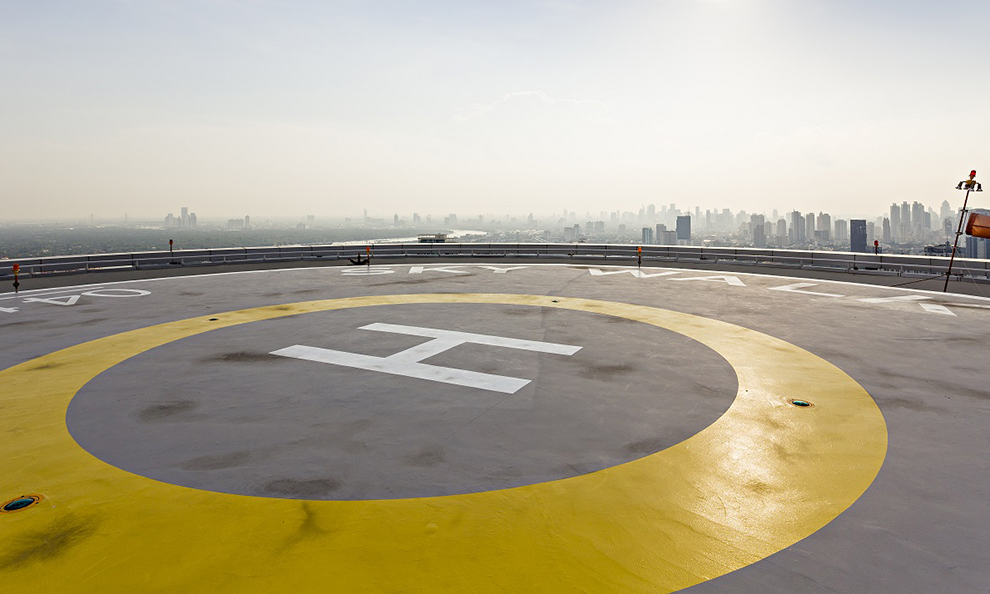H: (268, 320, 583, 397)
